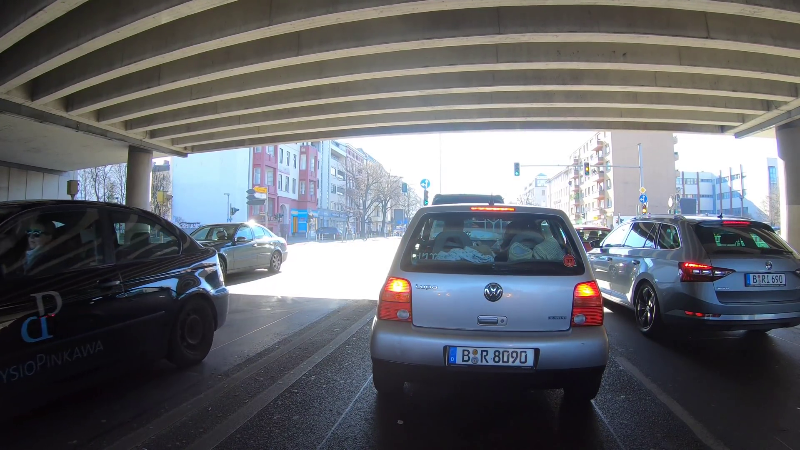Plate: (446, 342, 537, 368), (744, 271, 788, 286)
